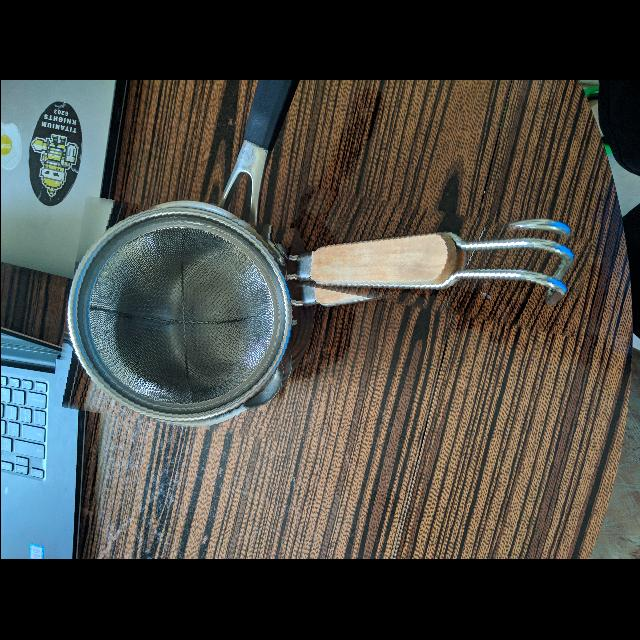Handle: (283, 227, 586, 307)
Strainer: (65, 206, 291, 423)
